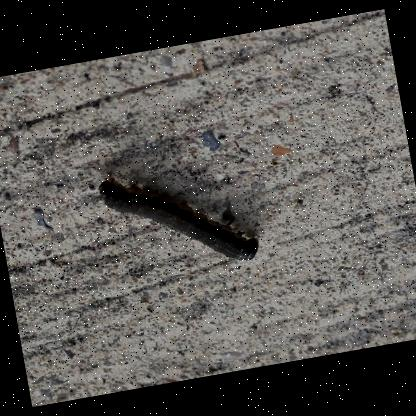Fall Armyworm Larvae: (92, 150, 265, 288)
